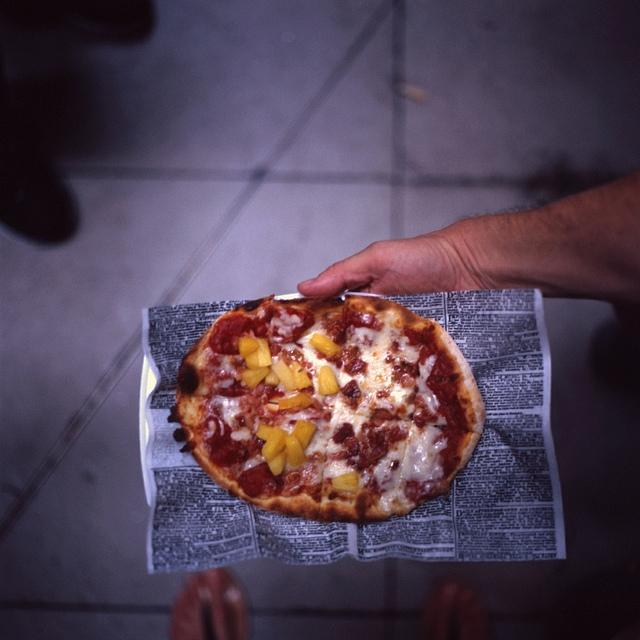pineapple: (261, 426, 288, 462), (310, 332, 341, 360), (290, 420, 318, 450), (271, 360, 297, 390), (246, 338, 272, 368), (285, 434, 307, 466), (241, 366, 270, 389), (266, 446, 288, 476), (331, 470, 358, 494), (318, 366, 339, 396), (239, 337, 260, 358), (256, 419, 274, 441), (294, 369, 312, 390), (278, 395, 301, 410), (264, 368, 280, 387)
